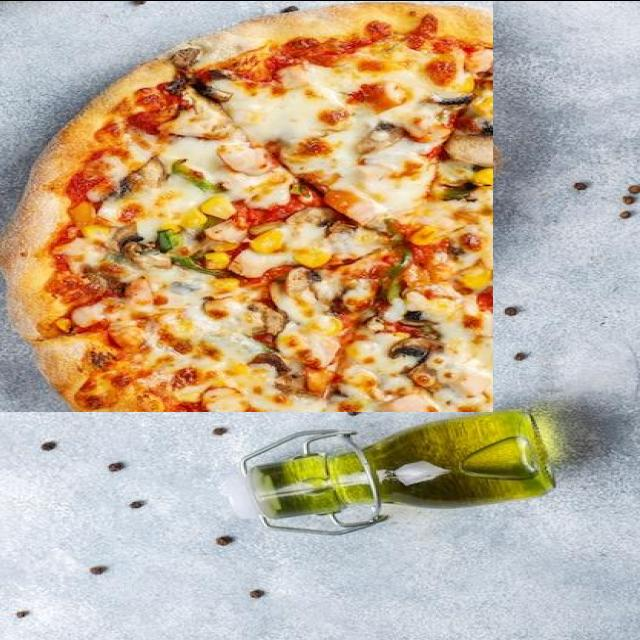pizza: (0, 0, 493, 411)
